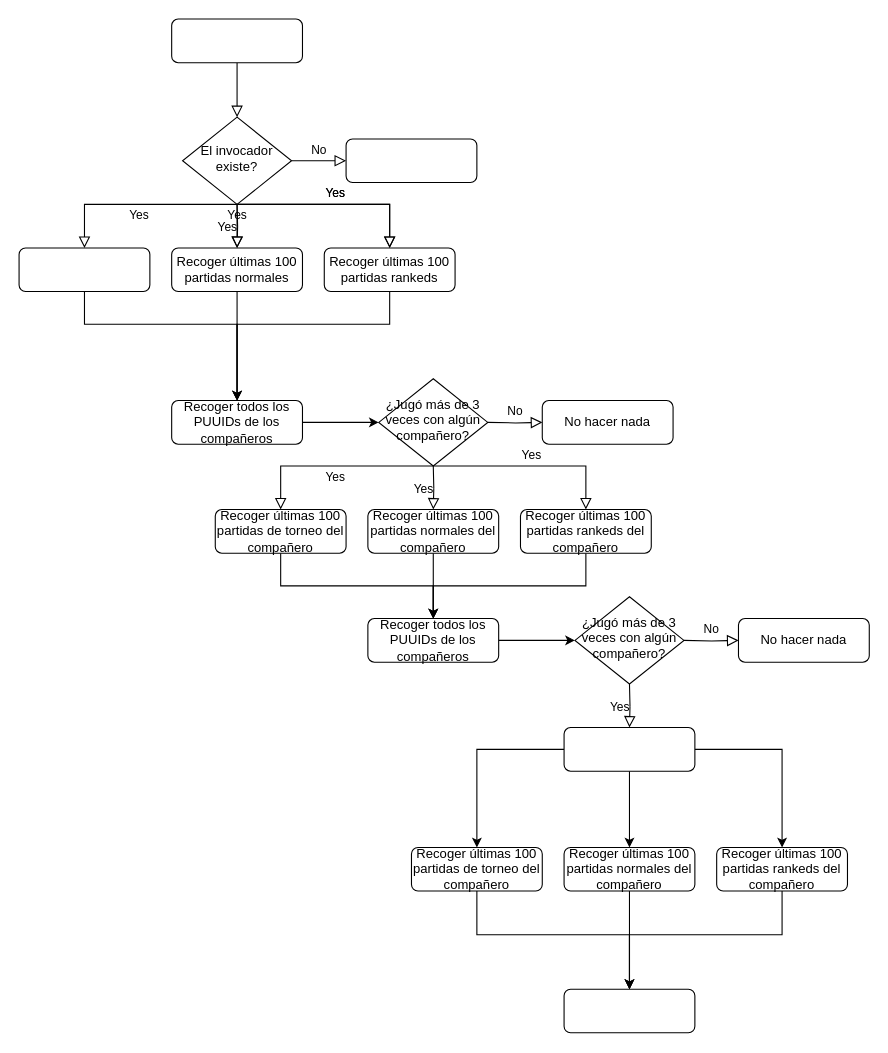
Image size: 888x1053. Some labels were removed from this diagram. The box of each missing label's shape, as (x1, y1, x2, y2) in pixels:
Comprobar itemización de los mismos campeones: (563, 988, 695, 1033)
Insertar nombre de invocador: (171, 18, 302, 63)
Mandar mensaje de error: (345, 138, 477, 183)
Recoger PUUID de los compañeros: (563, 726, 695, 771)
Recoger últimas 100 partidas de torneo: (18, 247, 150, 292)
